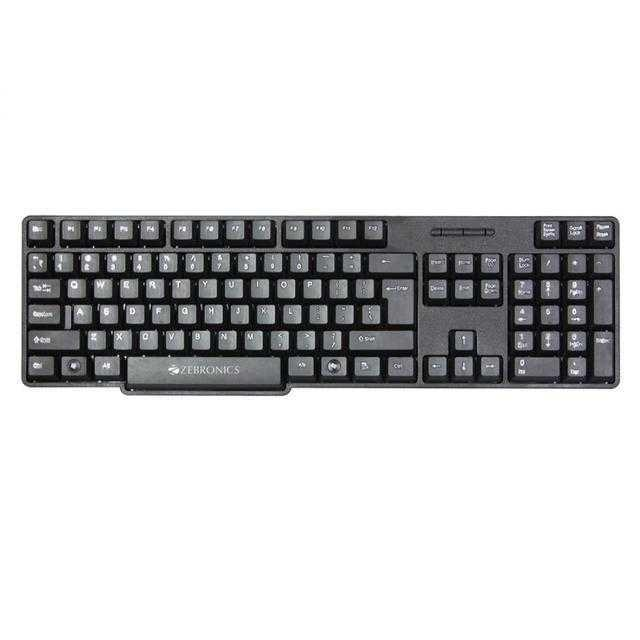keyboard: (18, 211, 625, 393)
